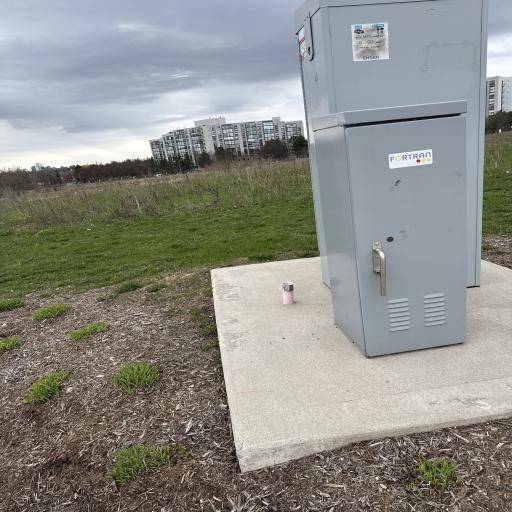Electrical Box: (290, 1, 490, 356)
